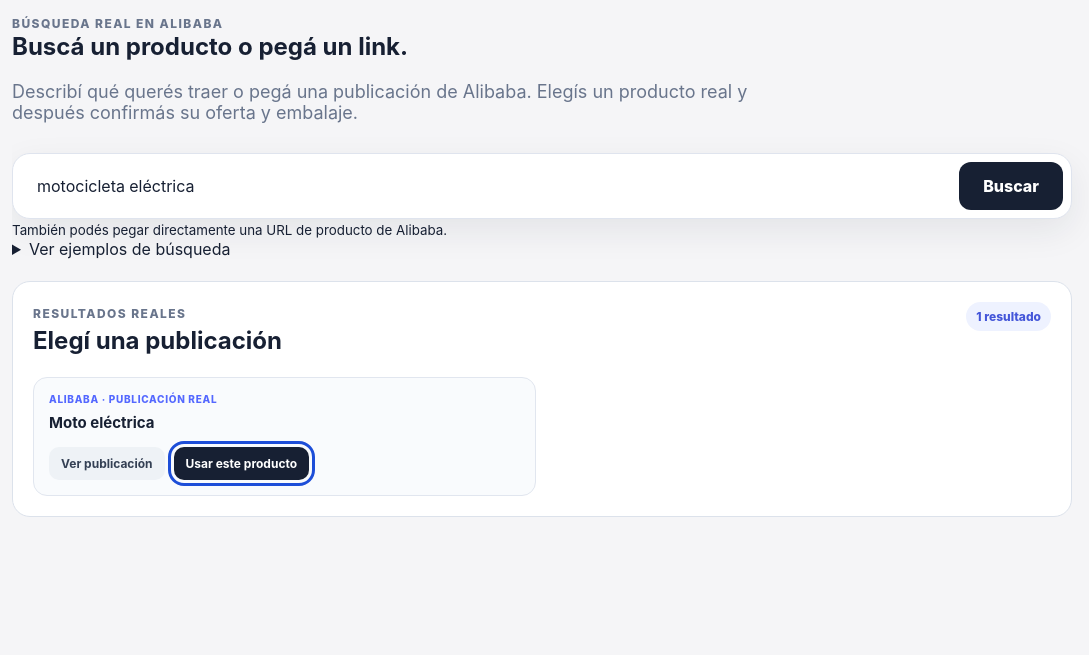
Test: exits a stalled extraction immediately and ignores its late response after manual fallback
The width and height of the screenshot is (1089, 655).
Click the button "Usar este producto": (241, 464) [174, 447, 309, 480]
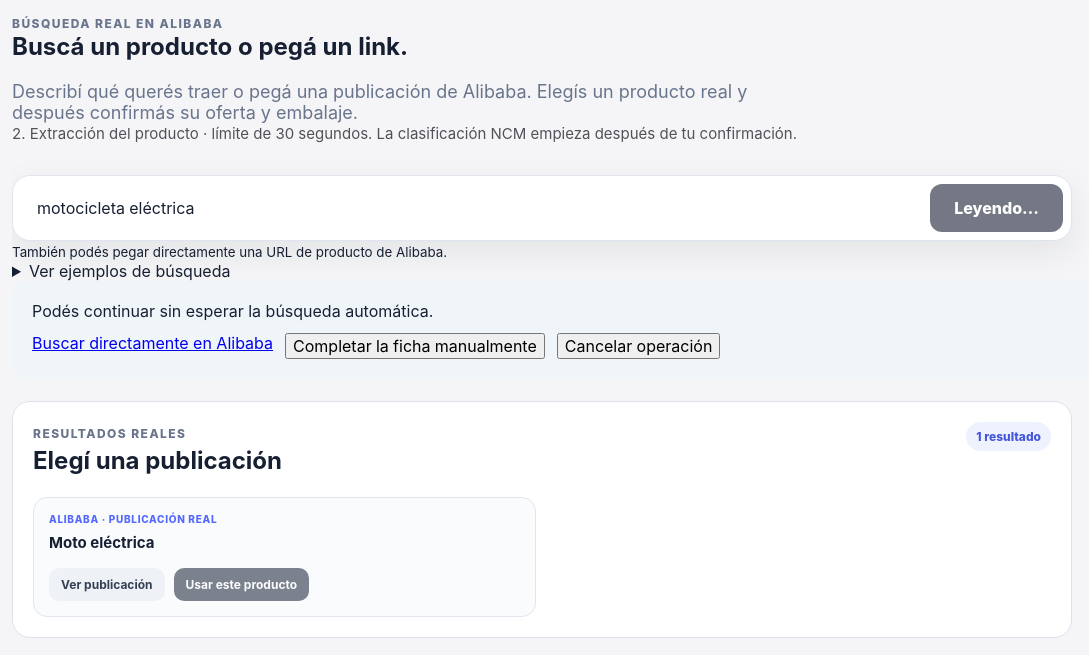
Expected: the text "2. Extracción del producto" is shown, [12, 124, 199, 143]
Expected: the button "Completar la ficha manualmente" is shown
Click the button "Completar la ficha manualmente": (415, 346) [285, 333, 545, 359]
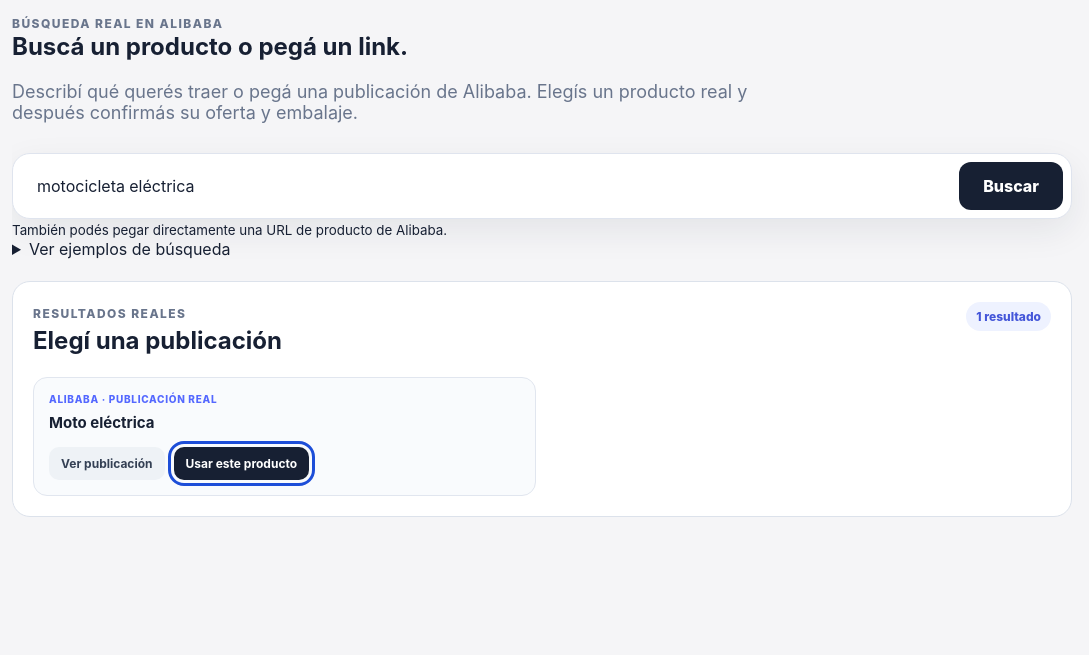
Expected: the text "límite de 30 segundos" is gone
